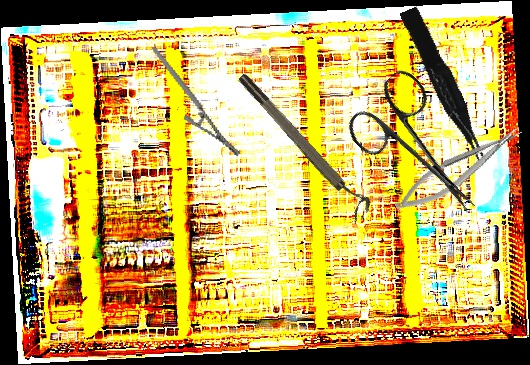Fixation Ring: (235, 65, 375, 222)
Iris Scissors: (338, 65, 506, 237)
Needle Holder: (388, 120, 530, 220), (152, 31, 241, 172)
Tissue Forceps: (399, 3, 489, 168)
